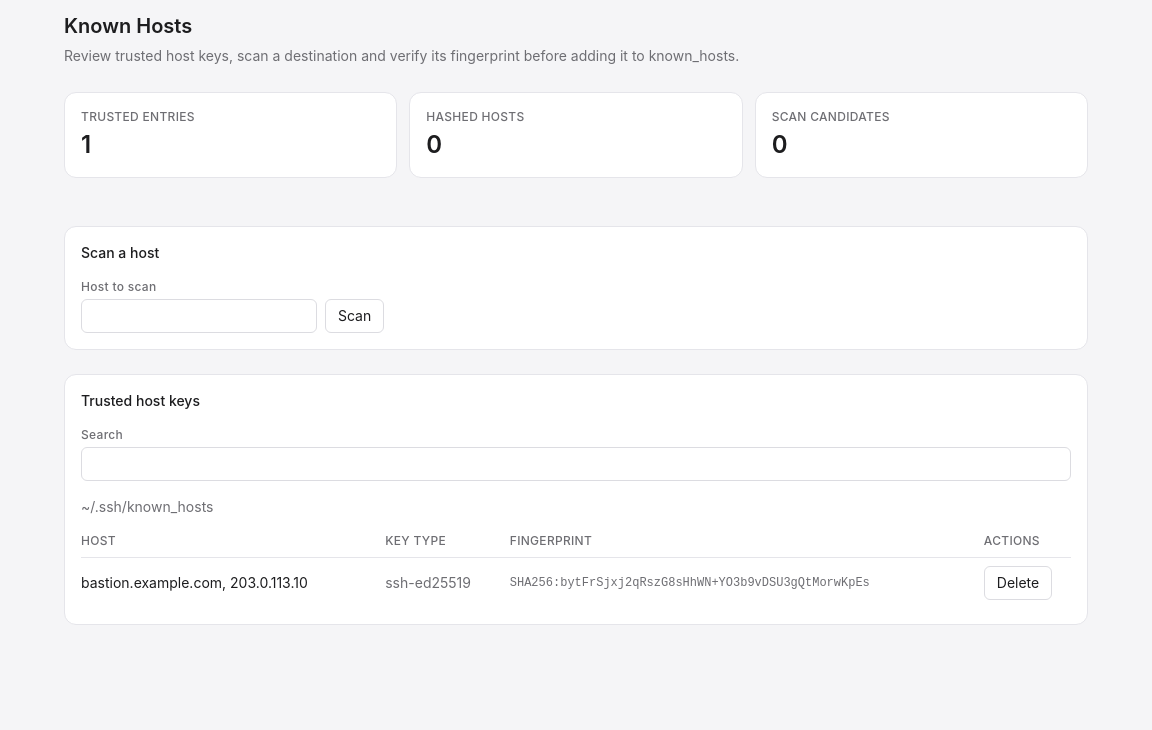
Scenario: KnownHostsPanel › keeps the add control unavailable until a fingerprint is typed or the risk is acknowledged
The width and height of the screenshot is (1152, 730).
Step 1. Type "new.example.com" into the field labelled "Host to scan" → (199, 316), box [81,299,317,333]
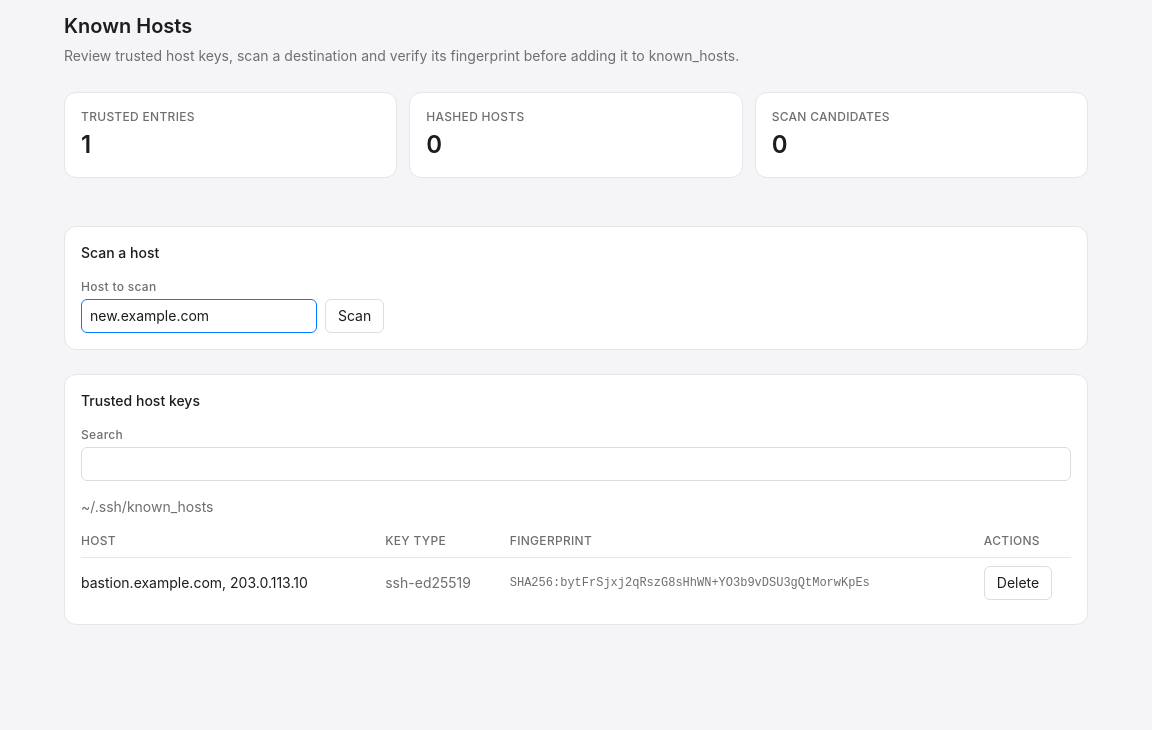
Step 2. Click the button "Scan" → (355, 316), box [325,299,384,333]
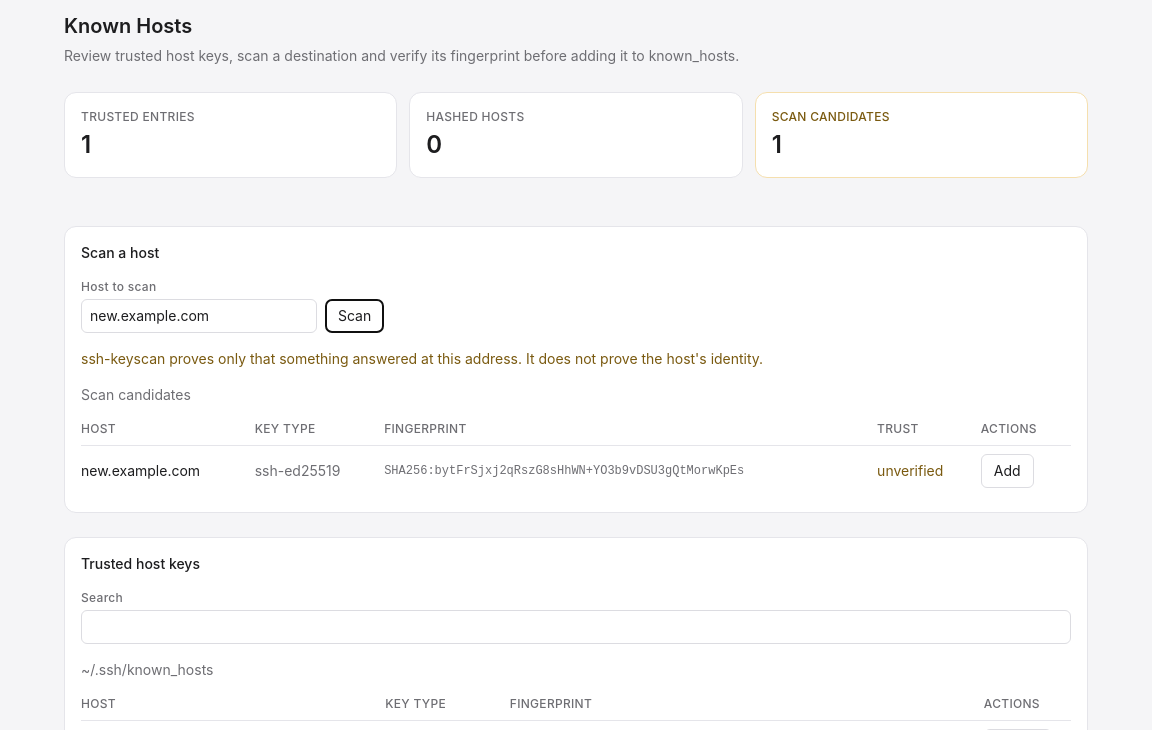
Step 3. Click the button "Add" → (1007, 471), box [981,454,1034,488]
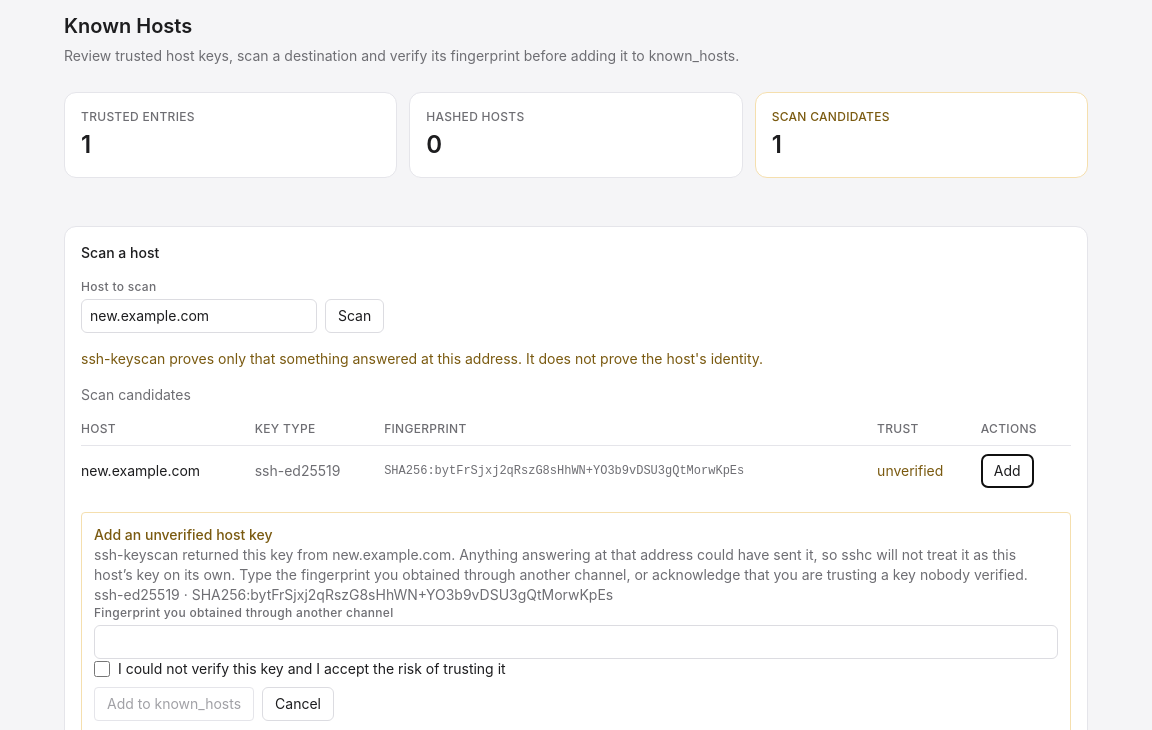
Now the button "Add to known_hosts" is disabled, box [94,687,254,721]
Step 4. Type "SHA256:bytFrSjxj2qRszG8sHhWN+YO3b9vDSU3gQtMorwKpEs" into the field labelled "Fingerprint you obtained through another channel" → (576, 642), box [94,625,1058,659]
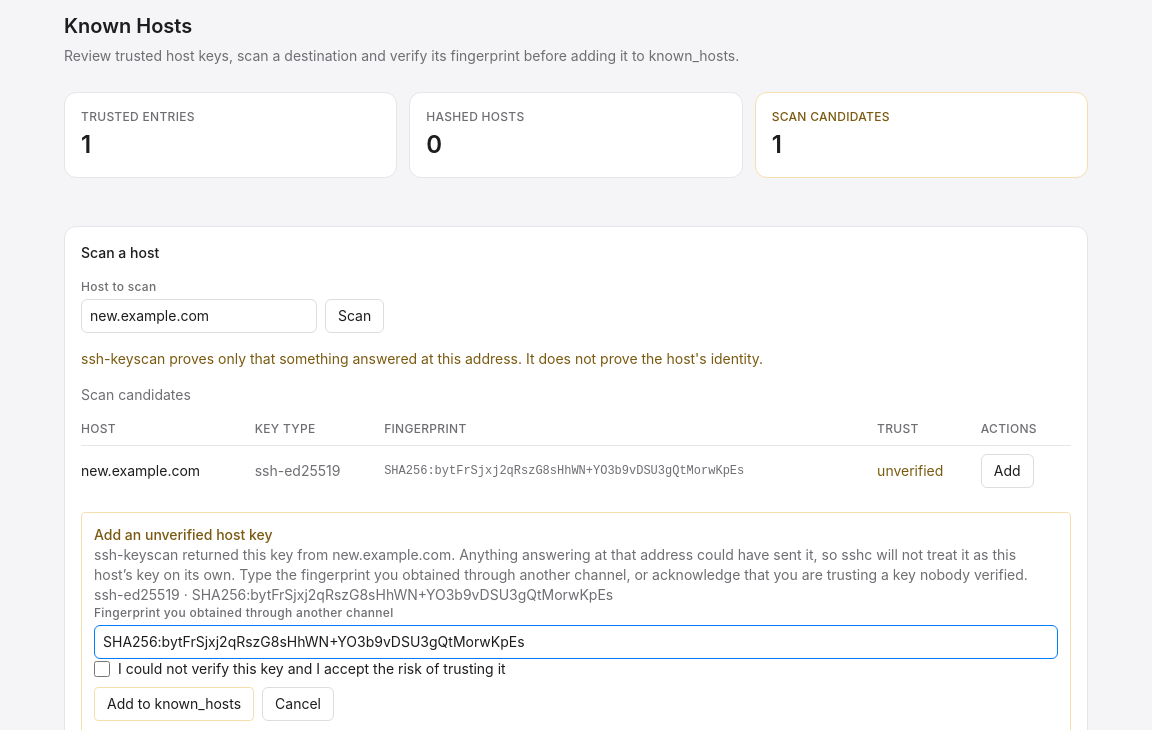
Now the button "Add to known_hosts" is enabled, box [94,687,254,721]
Step 5. Clear the field labelled "Fingerprint you obtained through another channel" → (576, 642), box [94,625,1058,659]
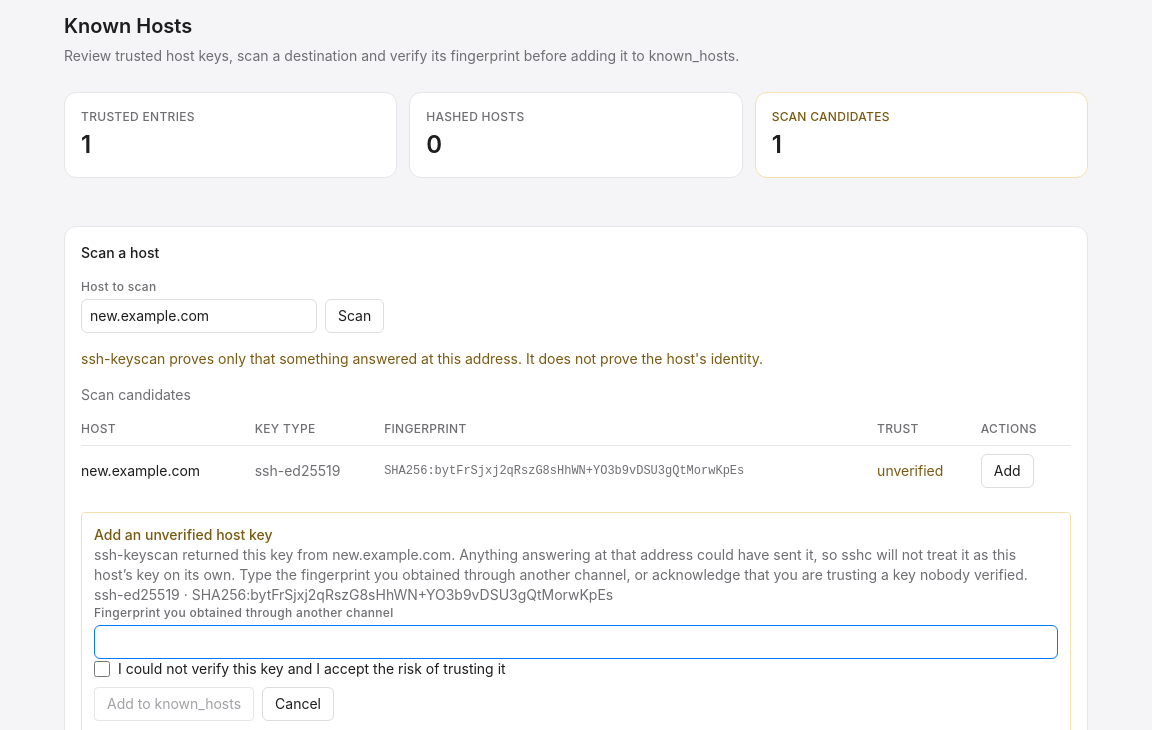
Now the button "Add to known_hosts" is disabled, box [94,687,254,721]
Step 6. Click the checkbox labelled "accept the risk" → (102, 669), box [94,661,110,677]
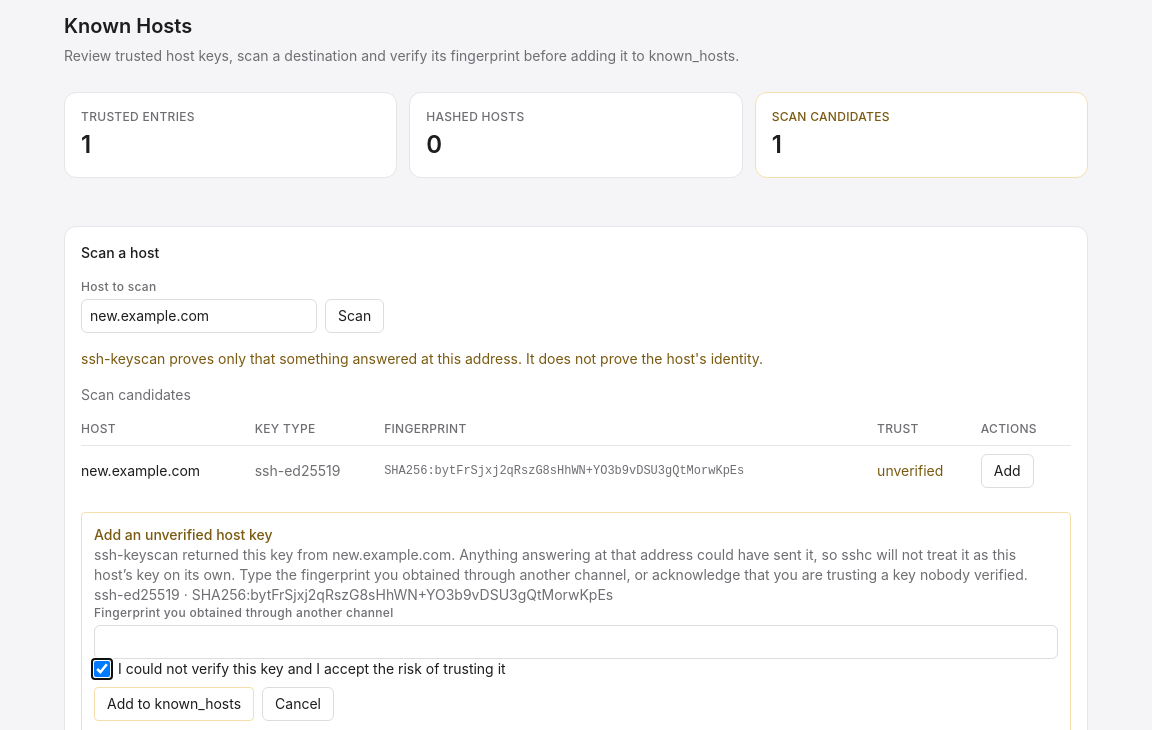
Now the button "Add to known_hosts" is enabled, box [94,687,254,721]
